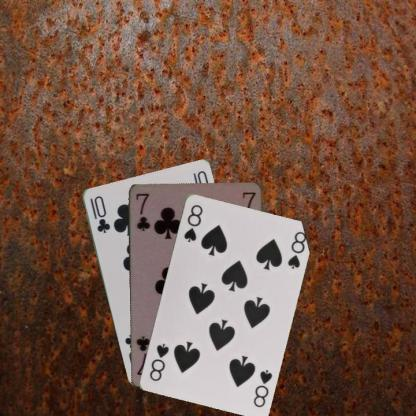10c: (87, 193, 112, 235)
7c: (133, 190, 152, 232)
8s: (181, 202, 204, 243), (250, 367, 273, 408)
